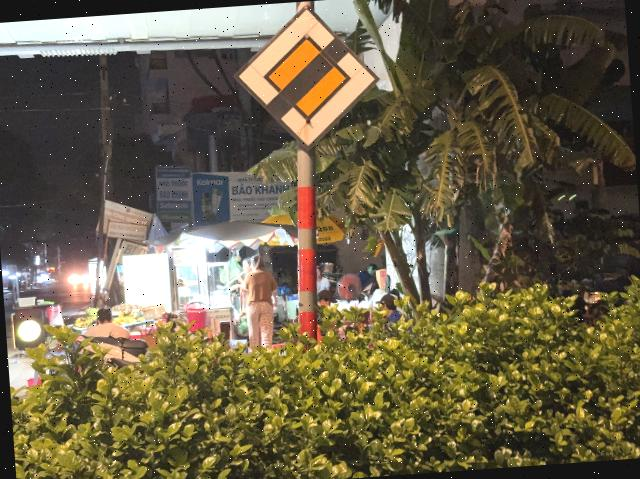het-duong-uu-tien: (227, 0, 384, 155)
